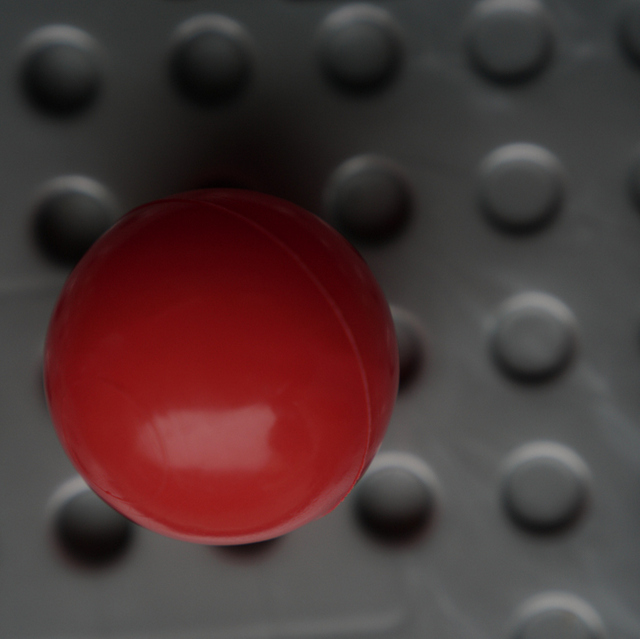Ball: (47, 192, 396, 536)
